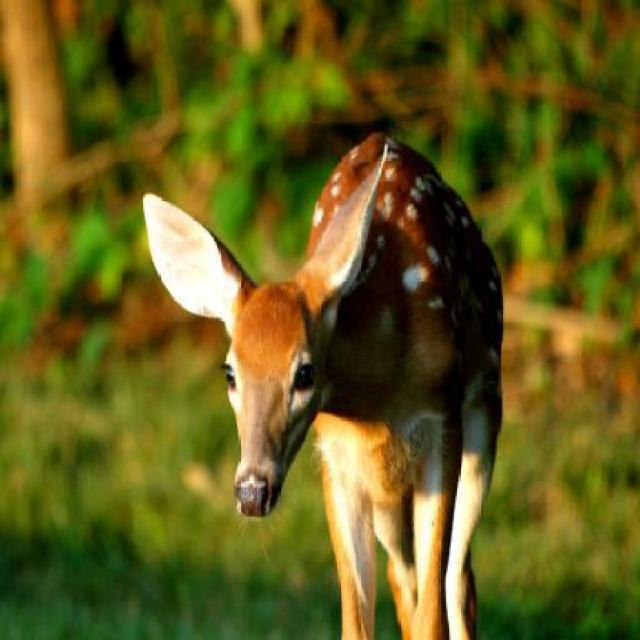Deer: (141, 127, 504, 639)
